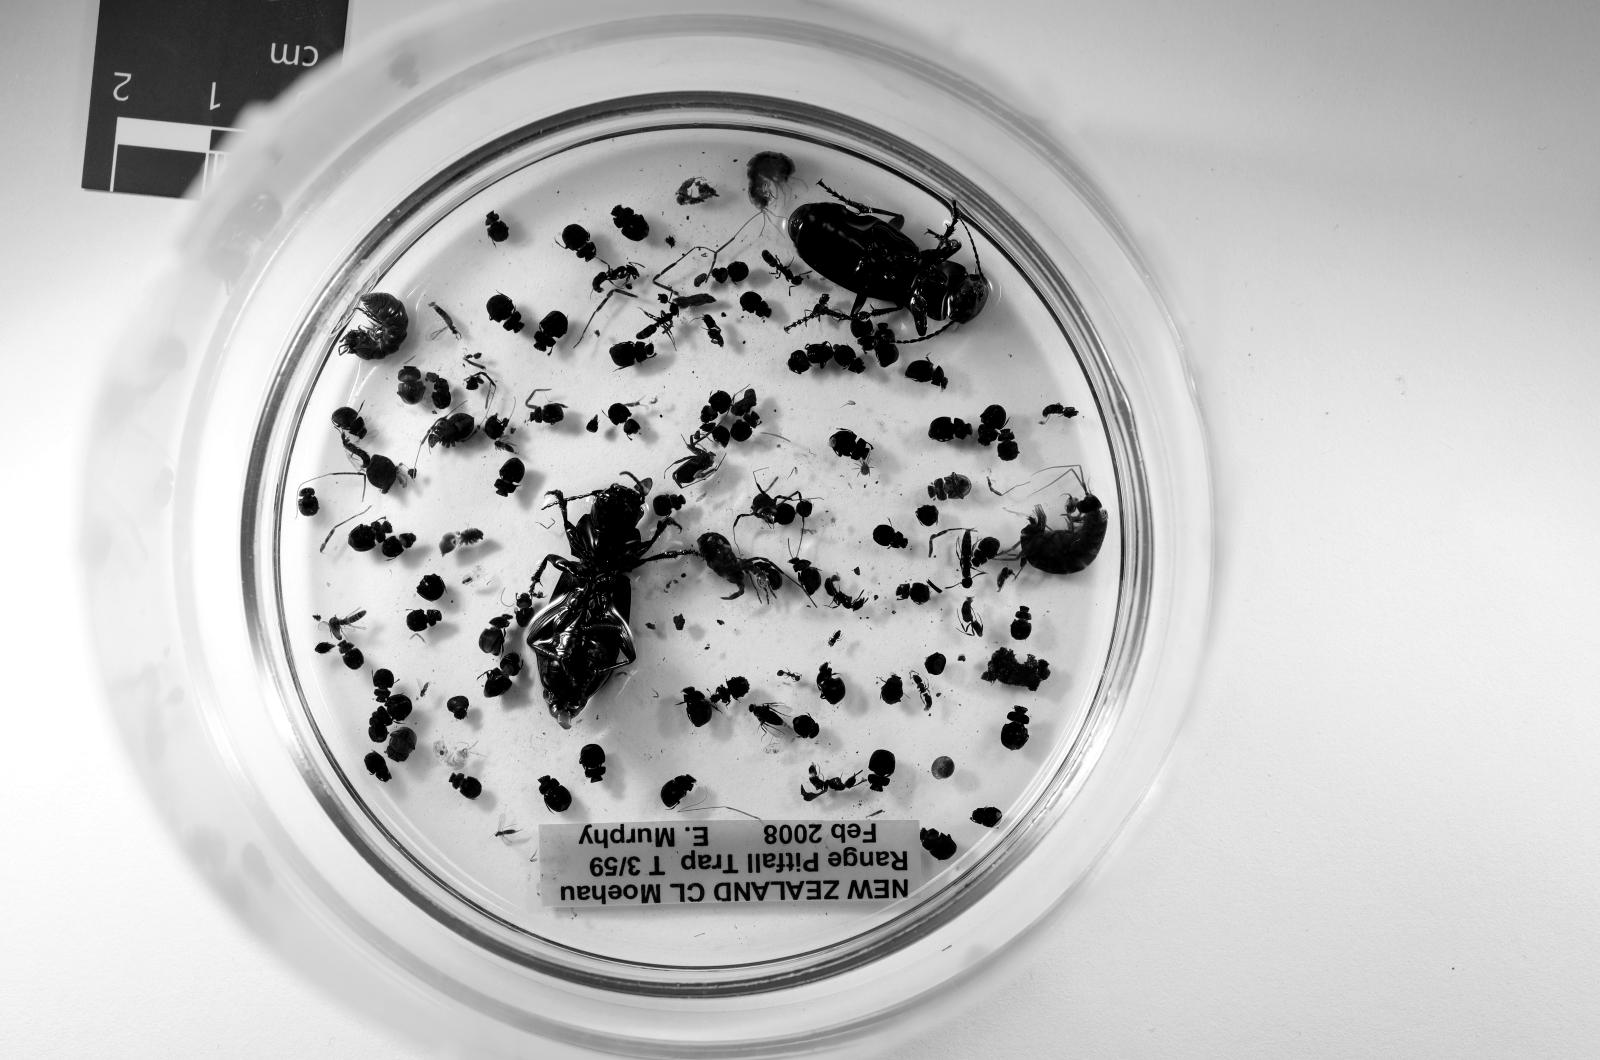acari: (860, 457, 872, 476)
amphipoda: (997, 466, 1109, 575), (747, 153, 793, 218)
carabidae: (529, 481, 697, 730), (788, 202, 991, 336)
coleoptera: (485, 652, 522, 696), (535, 310, 569, 354), (350, 518, 394, 552), (788, 342, 835, 373), (613, 205, 650, 243), (487, 295, 525, 332), (974, 403, 1006, 447), (681, 686, 715, 726), (788, 556, 822, 596), (478, 615, 512, 655), (828, 428, 872, 459), (866, 749, 896, 791), (538, 776, 572, 814), (609, 342, 656, 369), (563, 224, 597, 260), (1000, 705, 1028, 751), (903, 360, 947, 388), (494, 457, 525, 497), (710, 677, 750, 707), (816, 665, 847, 705), (660, 774, 697, 807), (578, 742, 607, 783), (919, 829, 957, 860), (341, 432, 371, 468), (607, 403, 641, 435), (875, 323, 900, 367), (928, 476, 972, 500), (928, 416, 972, 441), (375, 696, 413, 724), (331, 407, 365, 438), (397, 367, 425, 403), (700, 392, 731, 422), (872, 525, 909, 550), (731, 409, 759, 441), (407, 608, 441, 634), (835, 344, 866, 373), (972, 537, 1000, 568), (757, 558, 784, 590), (371, 667, 394, 705), (451, 774, 481, 801), (529, 403, 565, 426), (381, 535, 415, 558), (337, 640, 363, 671), (485, 211, 510, 243), (740, 292, 772, 317), (850, 319, 875, 351), (365, 751, 390, 783), (516, 593, 538, 627), (700, 422, 731, 447), (1010, 606, 1031, 640), (896, 581, 931, 602), (653, 493, 685, 516), (972, 807, 1003, 829), (881, 674, 903, 705), (997, 428, 1018, 459), (793, 715, 818, 739), (432, 379, 451, 409), (300, 487, 319, 516), (369, 715, 388, 742), (316, 642, 335, 655)
diptera: (747, 702, 793, 742), (492, 814, 525, 849), (415, 678, 434, 699), (626, 393, 649, 409), (494, 435, 516, 453), (828, 631, 841, 646)
formicidae: (634, 302, 678, 342), (825, 575, 866, 612), (809, 764, 856, 795), (590, 264, 641, 292), (763, 252, 803, 286), (428, 302, 459, 342), (909, 674, 934, 711), (959, 528, 974, 587), (338, 603, 368, 631), (778, 671, 799, 680)
gastropoda: (931, 757, 953, 780)
isopoda: (341, 292, 407, 360)
opiliones: (697, 531, 753, 600), (672, 435, 715, 487), (422, 413, 475, 447), (388, 726, 415, 761)
